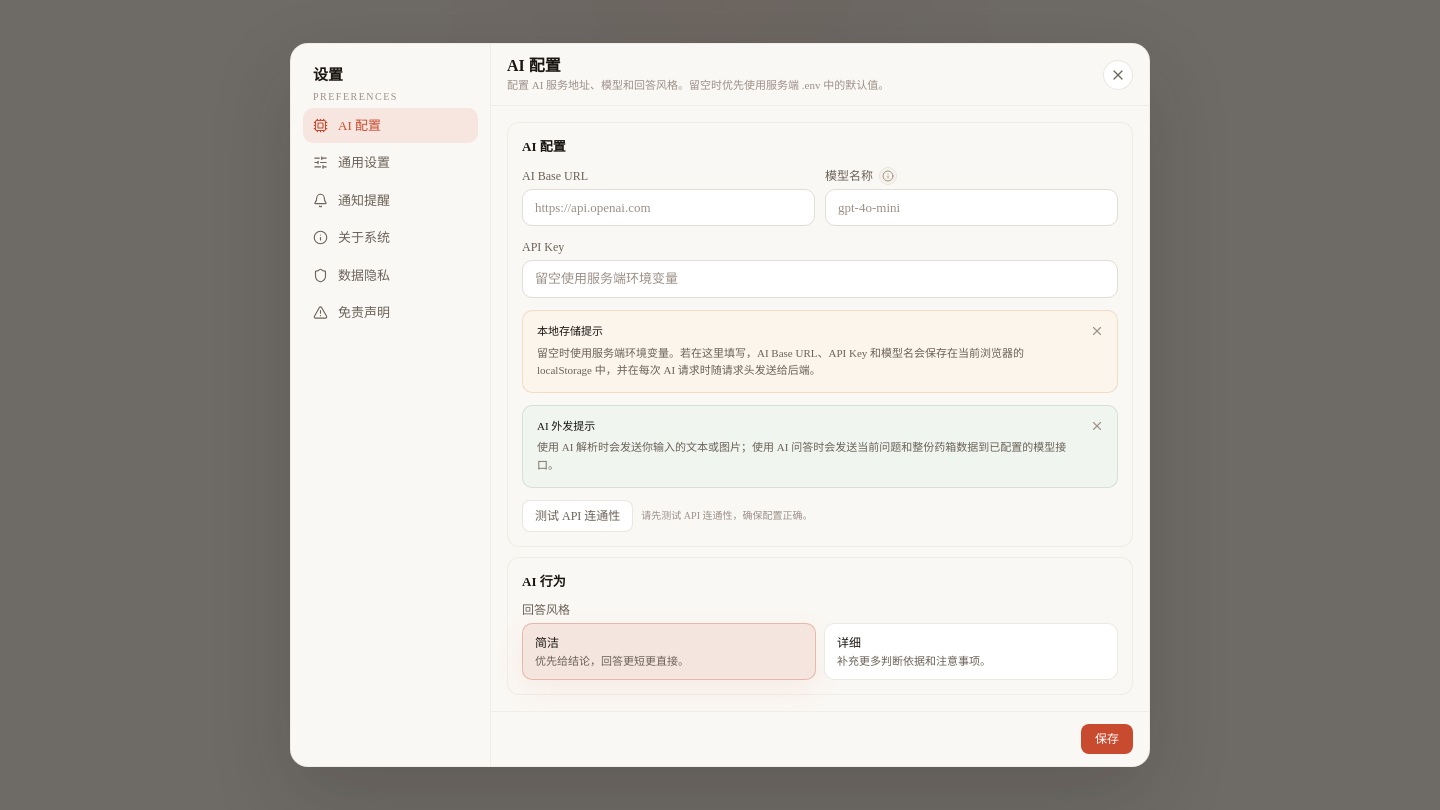
SettingsModal › lets users search and keyboard-select a timezone before saving
This screenshot has width=1440, height=810.
Click the button "通用设置" at (390, 163), box top-left (303, 145), bottom-right (478, 181)
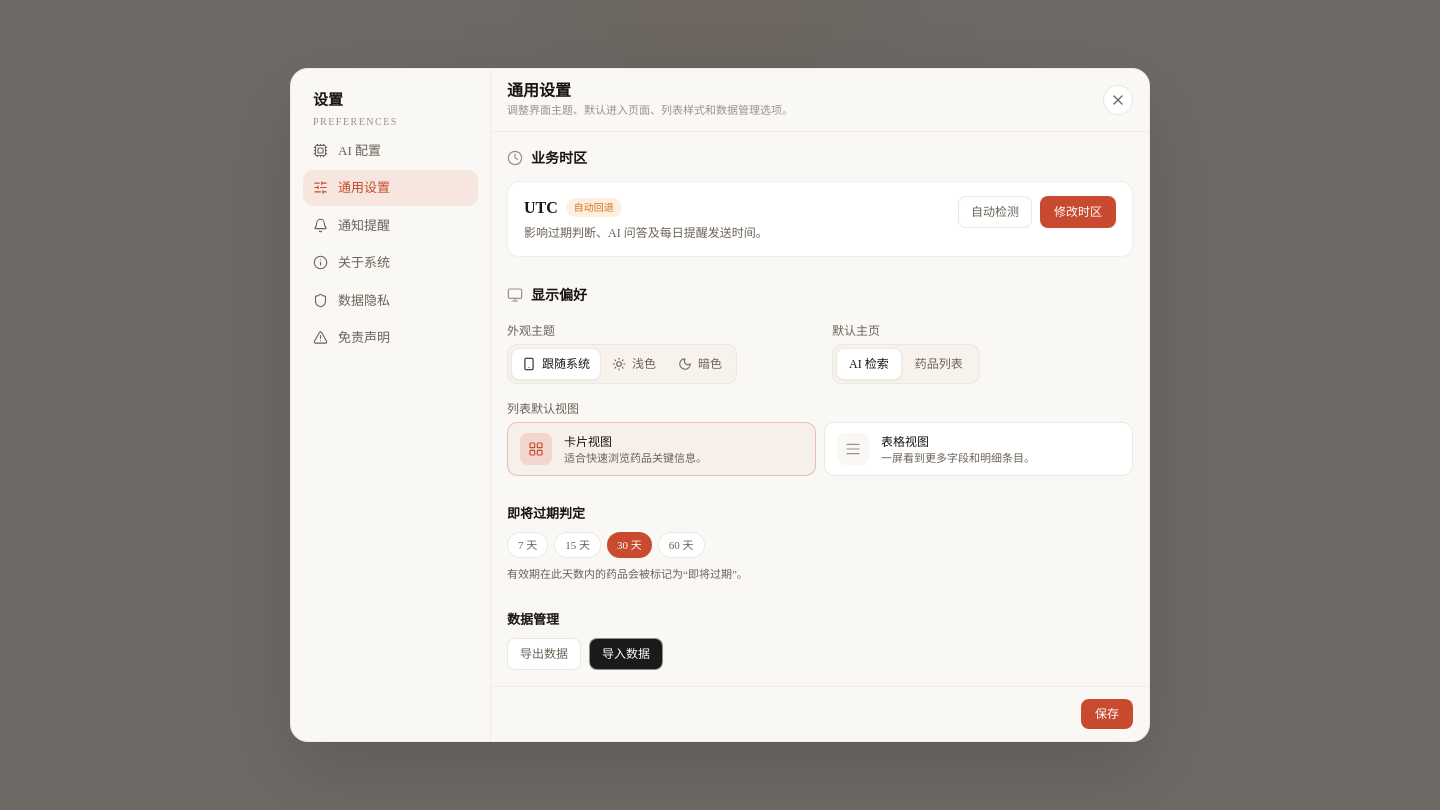
Click the button "修改时区" at (1078, 212), box top-left (1040, 196), bottom-right (1116, 228)
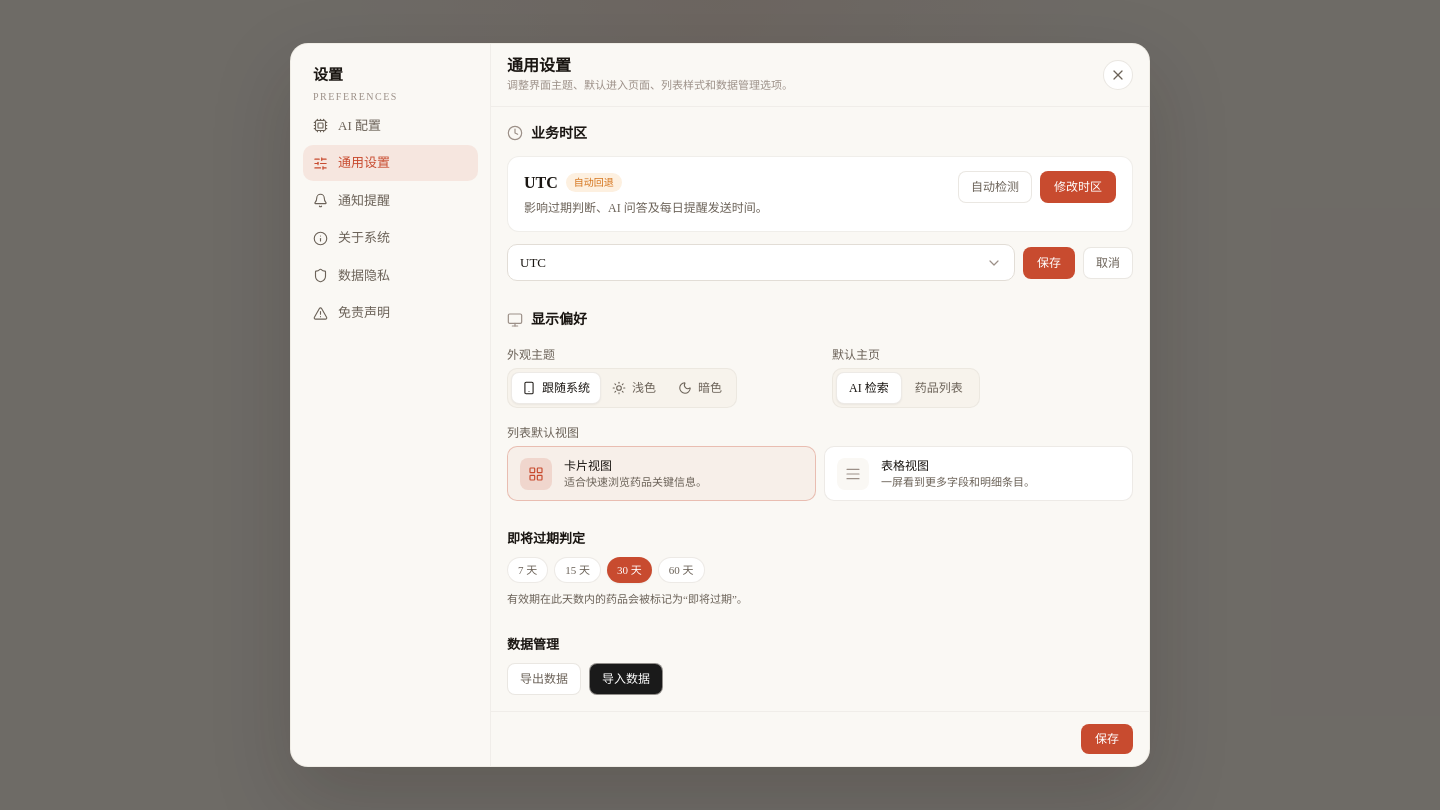
Click the button with aria-label "选择业务时区" at (533, 262), box top-left (507, 244), bottom-right (1015, 281)
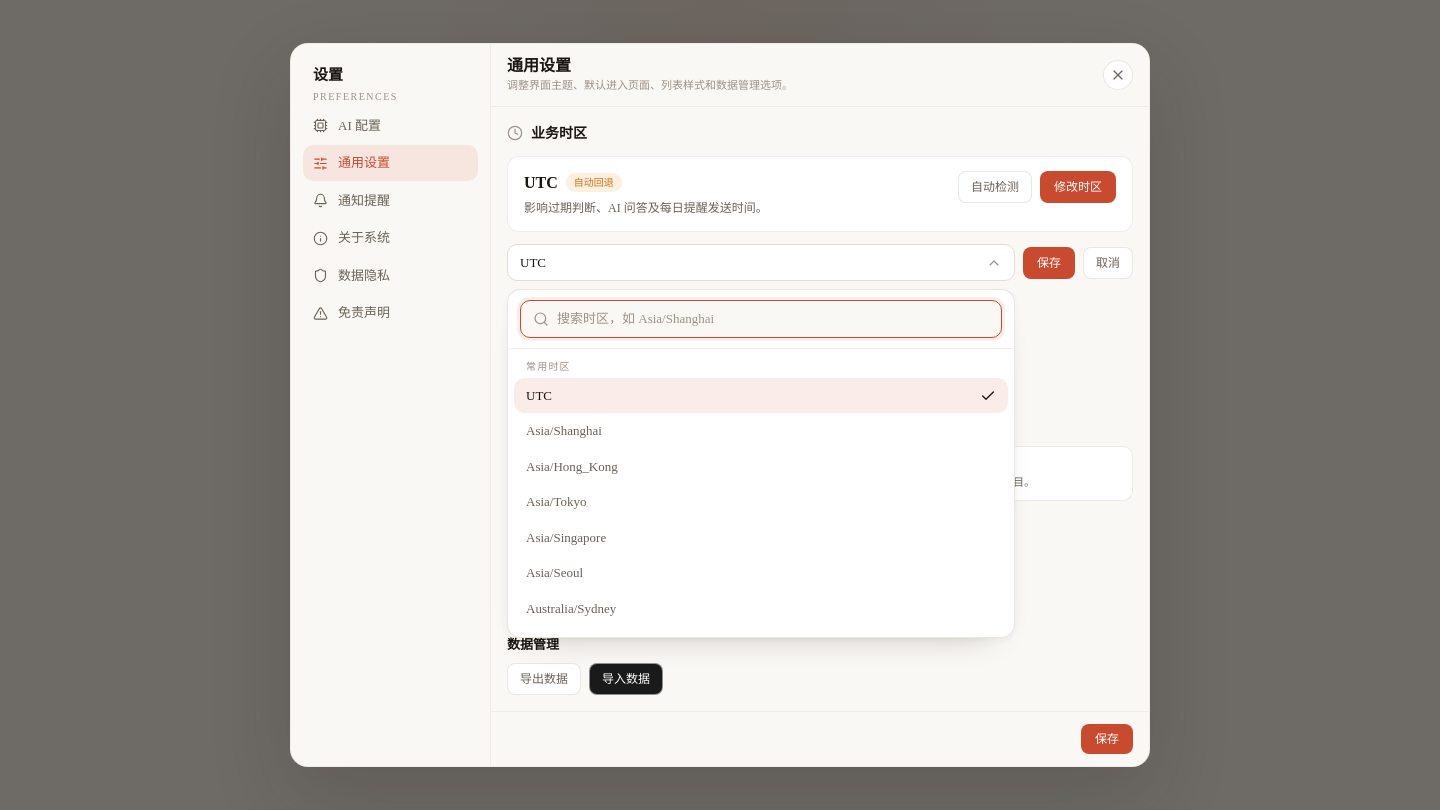
Type "new york" into the field with placeholder "搜索时区，如 Asia/Shanghai" at (773, 319), box top-left (557, 309), bottom-right (989, 329)
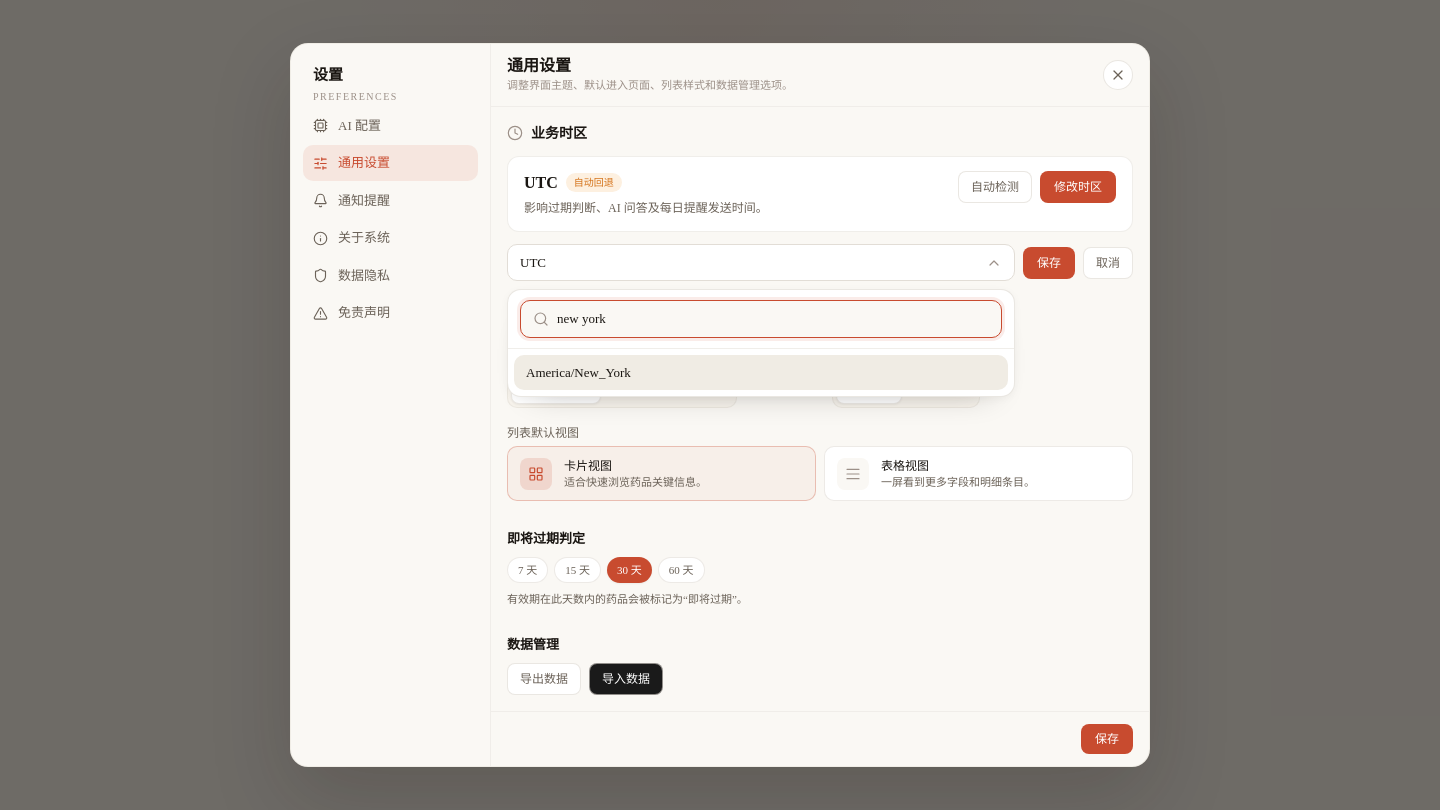
Now the option "America/New_York" is shown, box top-left (514, 355), bottom-right (1008, 390)
Press ArrowDown in the field with placeholder "搜索时区，如 Asia/Shanghai", box top-left (557, 309), bottom-right (989, 329)
Press Enter in the field with placeholder "搜索时区，如 Asia/Shanghai", box top-left (557, 309), bottom-right (989, 329)
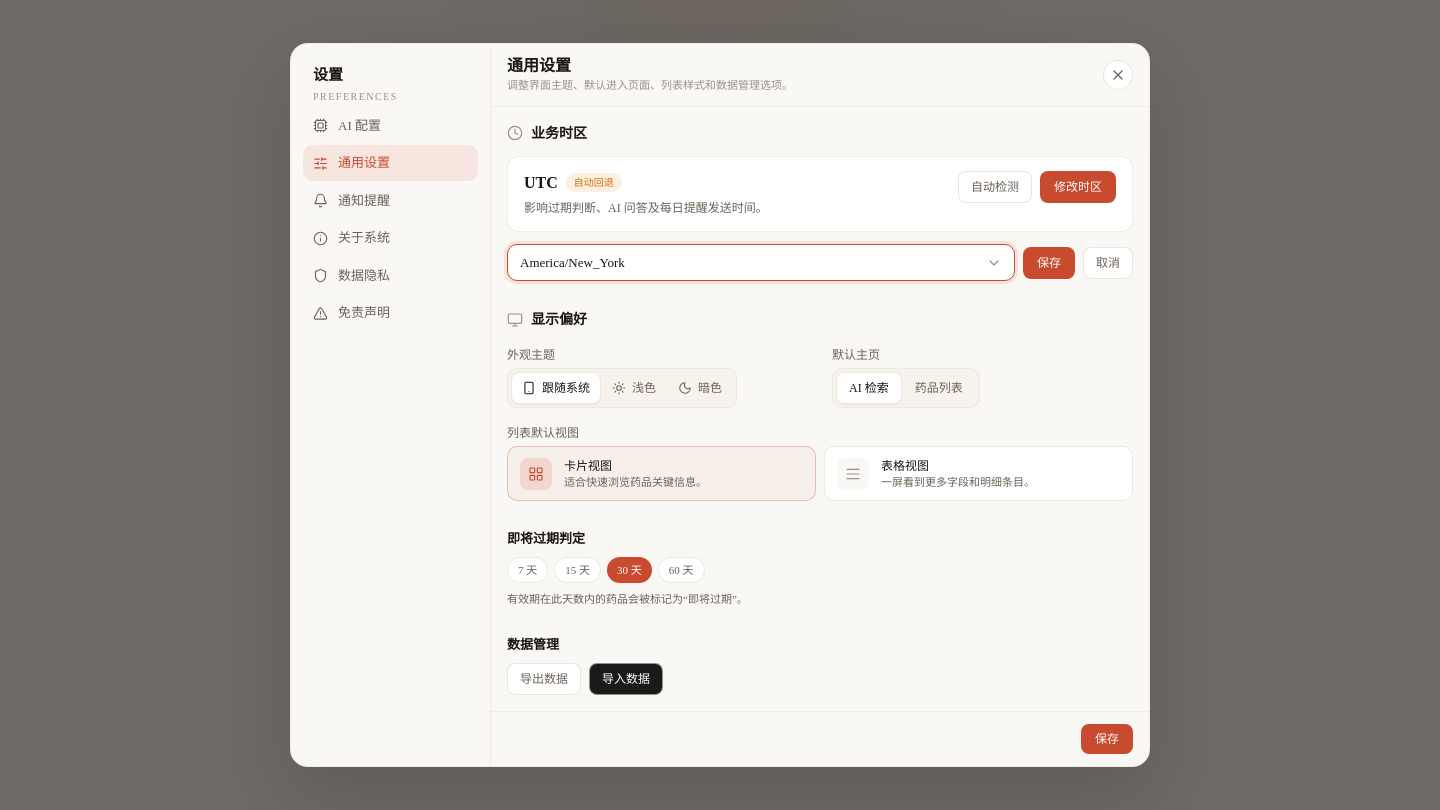
Click the button "保存" below "影响过期判断、AI 问答及每日提醒发送时间。" at (1049, 262), box top-left (1023, 246), bottom-right (1075, 278)
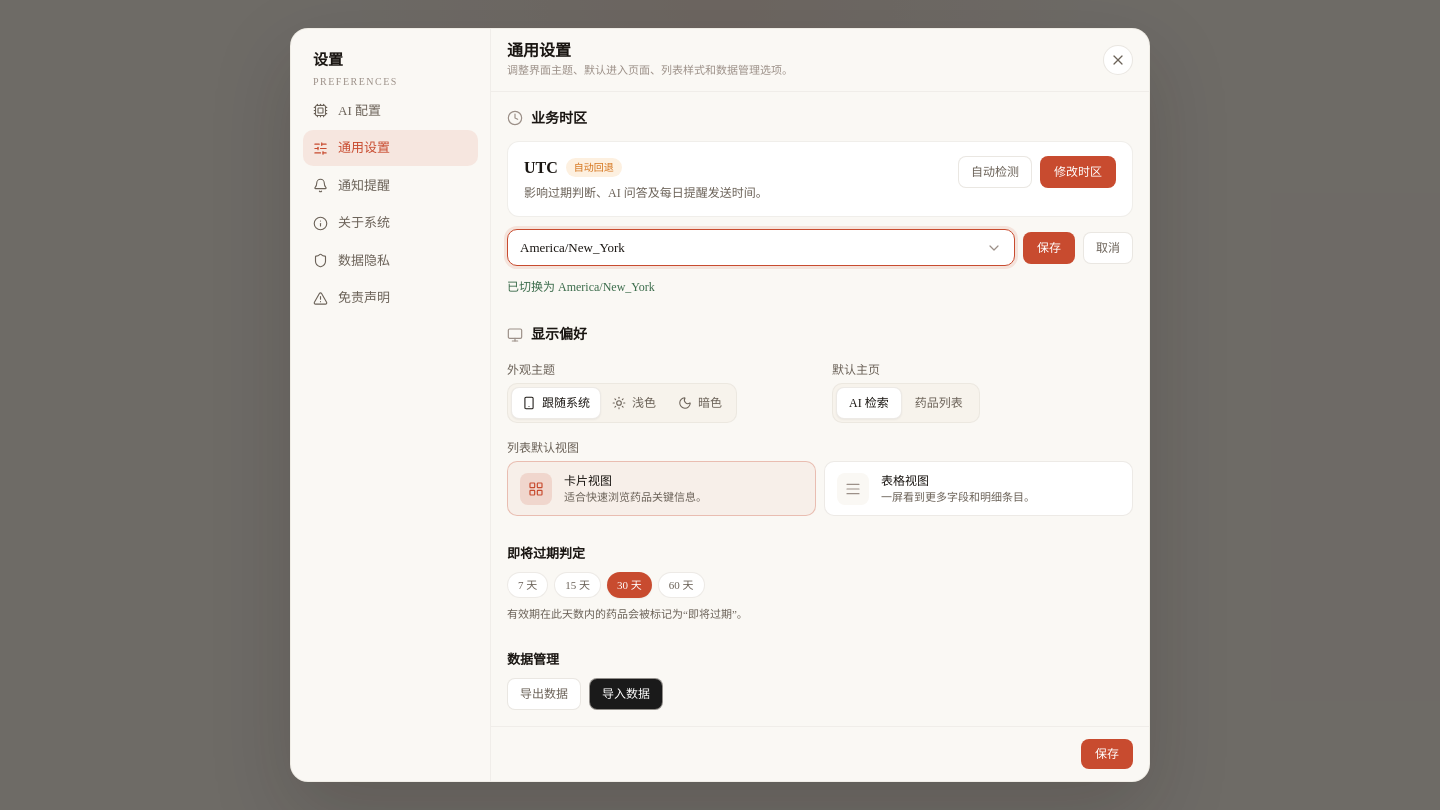
Now the text "已切换为 America/New_York" is shown, box top-left (507, 280), bottom-right (655, 294)
